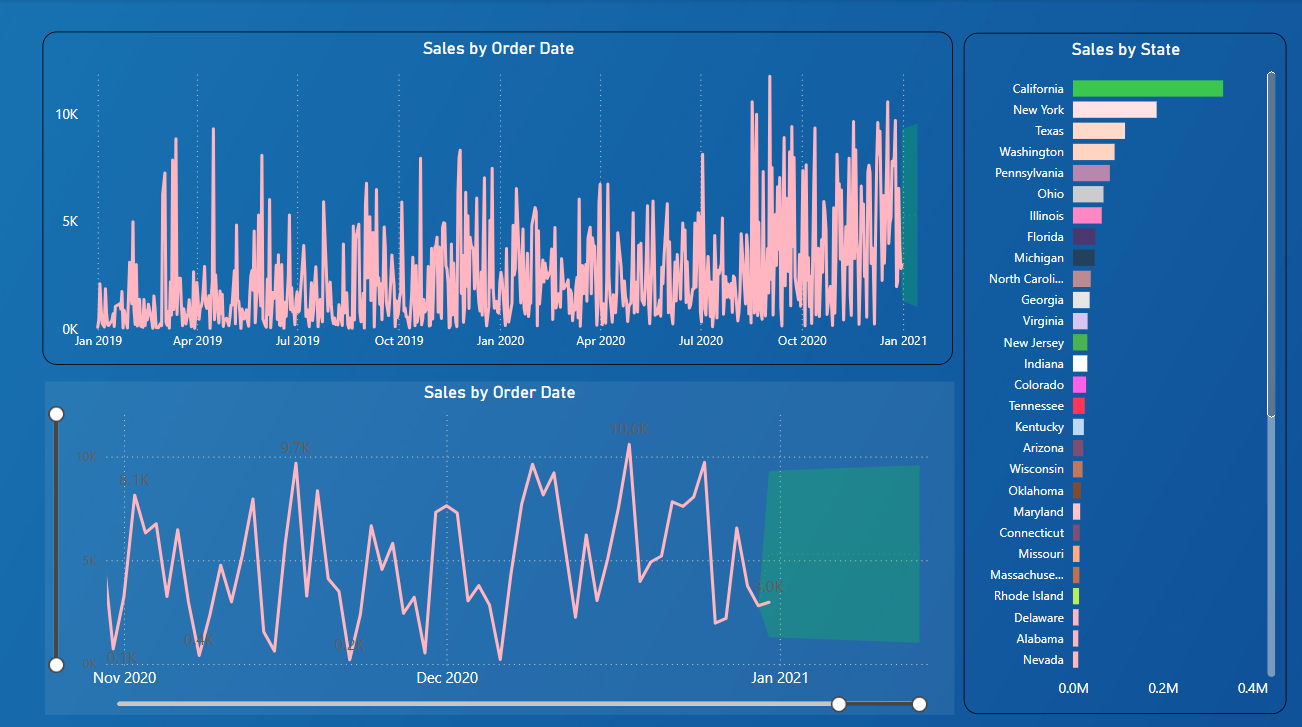

This screenshot's page, from the dashboard's own definition file:
{"tool":"powerbi","page":{"name":"Page 2","canvas":[1280,720],"ordinal":1},"visuals":[{"type":"lineChart","title":"Sales by Order Date","fields":{"Y":["Sum(SuperStore_Sales_Dataset.Sales)"],"Category":["SuperStore_Sales_Dataset.Order Date"]},"box":[42,31.9,893.6,327.6],"z":0},{"type":"lineChart","title":"Sales by Order Date","fields":{"Y":["Sum(SuperStore_Sales_Dataset.Sales)"],"Category":["SuperStore_Sales_Dataset.Order Date"]},"box":[44,375,892.7,327.5],"z":1000},{"type":"barChart","title":" Sales by State","fields":{"Category":["SuperStore_Sales_Dataset.State"],"Y":["Sum(SuperStore_Sales_Dataset.Sales)"]},"box":[945.5,33,316.9,669.1],"z":2000}]}

Visuals, with their boxes in screenshot pixels (x1, y1, x2, y2), scaled from the page's 1280x720 canvas onto the 1302x727 screenshot:
"Sales by Order Date" lineChart: 43, 32, 952, 363
"Sales by Order Date" lineChart: 45, 379, 953, 709
" Sales by State" barChart: 962, 33, 1284, 709
